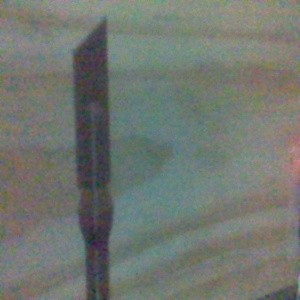cutter: (71, 17, 115, 300)
